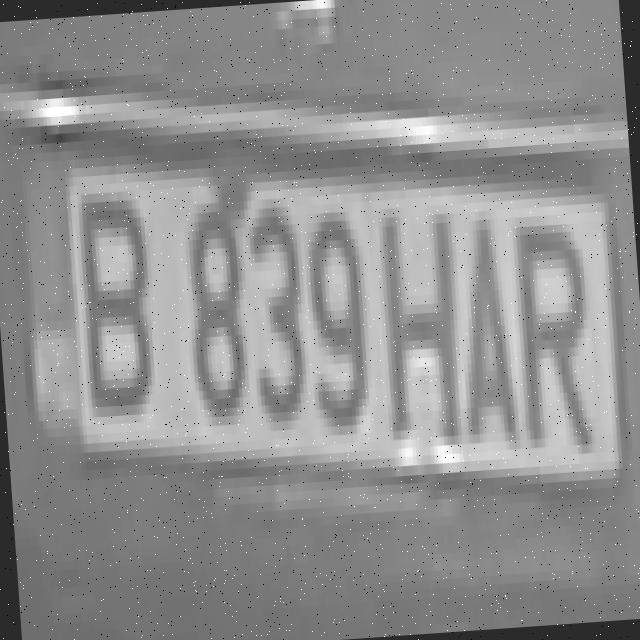Autre: (14, 127, 622, 488)
